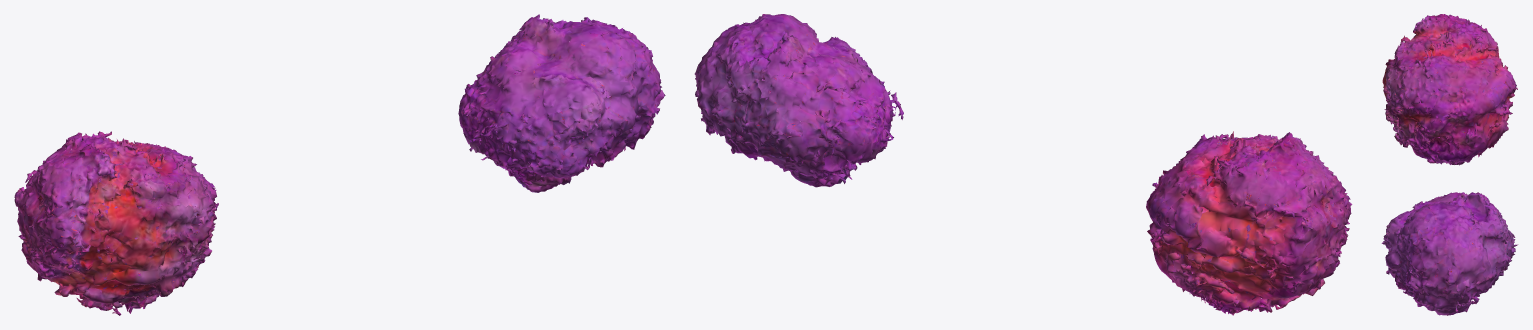
File: lung-lung-lung-lung-pneumonia.glb
3 renders of one model, left to right at view 1: azimuth 30°, elevation 25°; view 2: azimuth 150°, elevation 25°; view 3: azimuth 270°, elevation 25°, orthographic. The views are drawn at different scales.
Visible parts, largest first — view 1: Infection; view 2: Infection; view 3: Infection.
Part boxes in pixels (x1,y1,x2,y2): Infection: (14,14,665,315); Infection: (694,14,1352,315); Infection: (1381,14,1518,315).
Bounding box in the file's own units: 0.181 × 0.0474 × 0.0442.
1 material, 1 textured.
